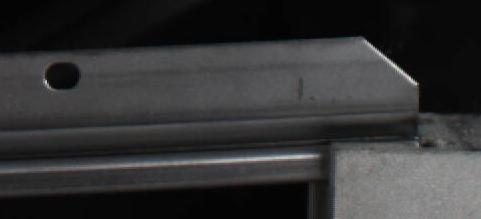cut: (275, 34, 423, 178)
holes: (44, 60, 82, 90)
